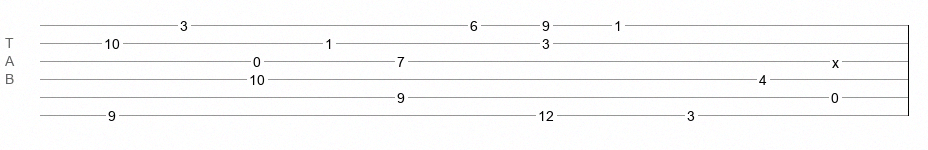0: (253, 54, 261, 64), (831, 90, 839, 100)
1: (325, 36, 333, 46), (614, 18, 622, 28)
10: (104, 36, 120, 46), (249, 72, 265, 82)
12: (538, 108, 554, 118)
3: (180, 18, 188, 28), (542, 36, 550, 46), (687, 108, 695, 118)
4: (759, 72, 767, 82)
6: (470, 18, 478, 28)
7: (397, 54, 405, 64)
9: (108, 108, 116, 118), (397, 90, 405, 100), (542, 18, 550, 28)
x: (832, 55, 839, 63)
